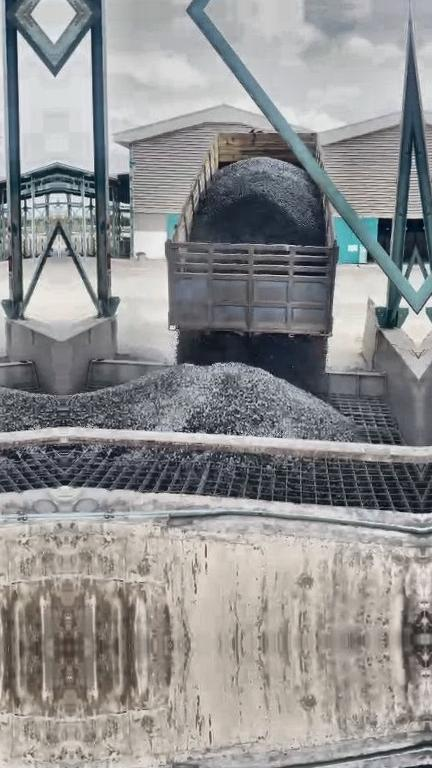gravel: (64, 363, 355, 439), (189, 157, 325, 245), (174, 332, 327, 392), (83, 446, 296, 471)
